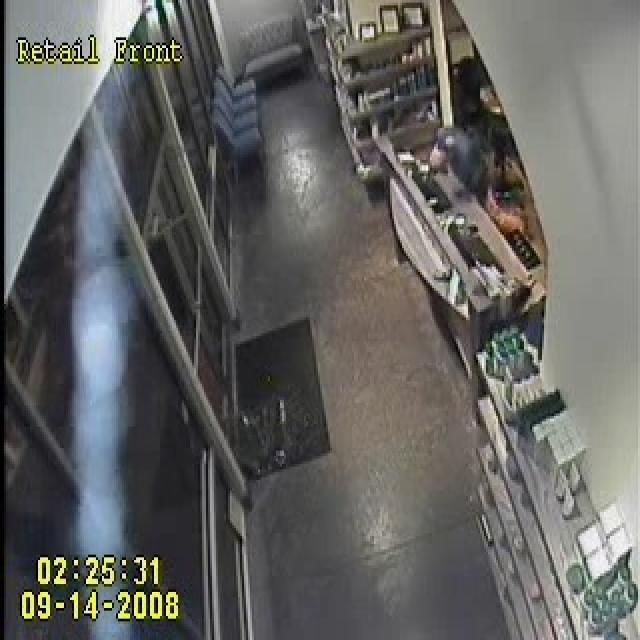thief: (417, 118, 509, 255)
